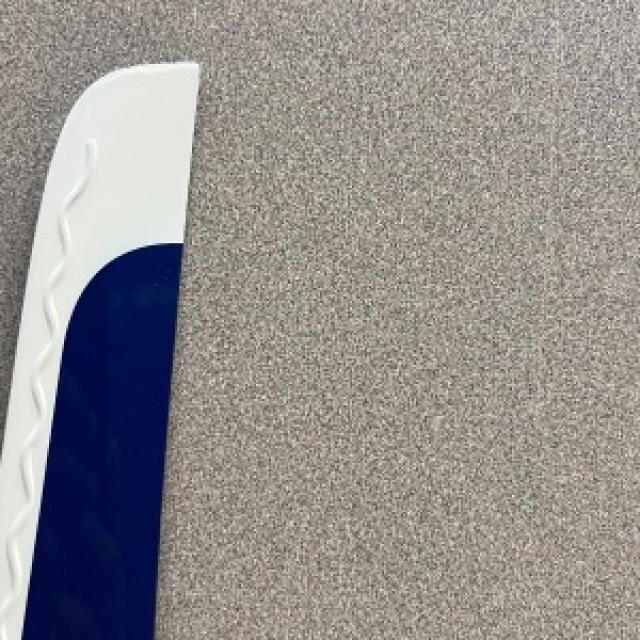healthy: (0, 64, 196, 638)
